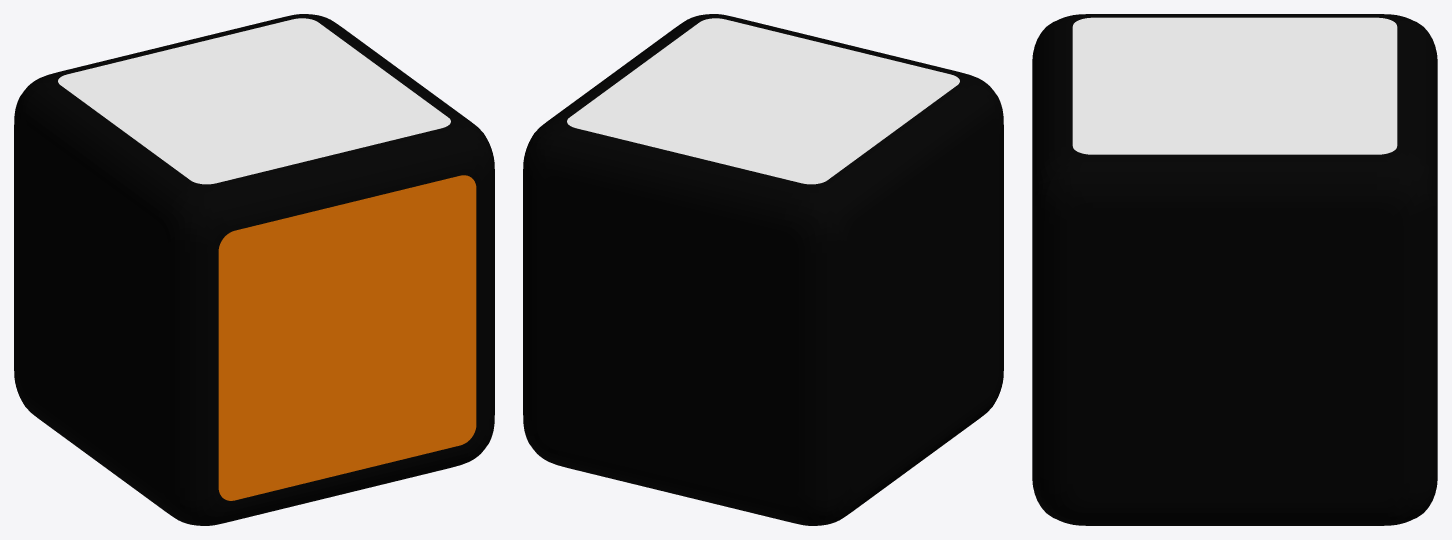
The picture shows the model from 3 angles, left to right: view 1: azimuth 30°, elevation 25°; view 2: azimuth 150°, elevation 25°; view 3: azimuth 270°, elevation 25°; orthographic projection. The views are drawn at different scales.
Visible parts, largest first — view 1: ow; view 2: ow; view 3: ow.
Boxes of the visible parts, box(x1,y1,x2,y2) form: ow: box(14, 14, 494, 525); ow: box(523, 14, 1003, 525); ow: box(1032, 14, 1437, 525).
Size of the model in its own units: 100 by 100 by 100.
